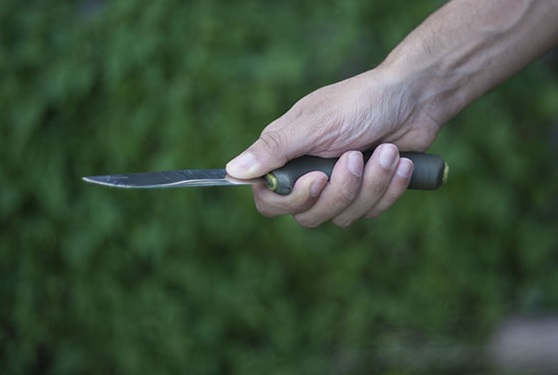knife: (64, 139, 414, 234)
